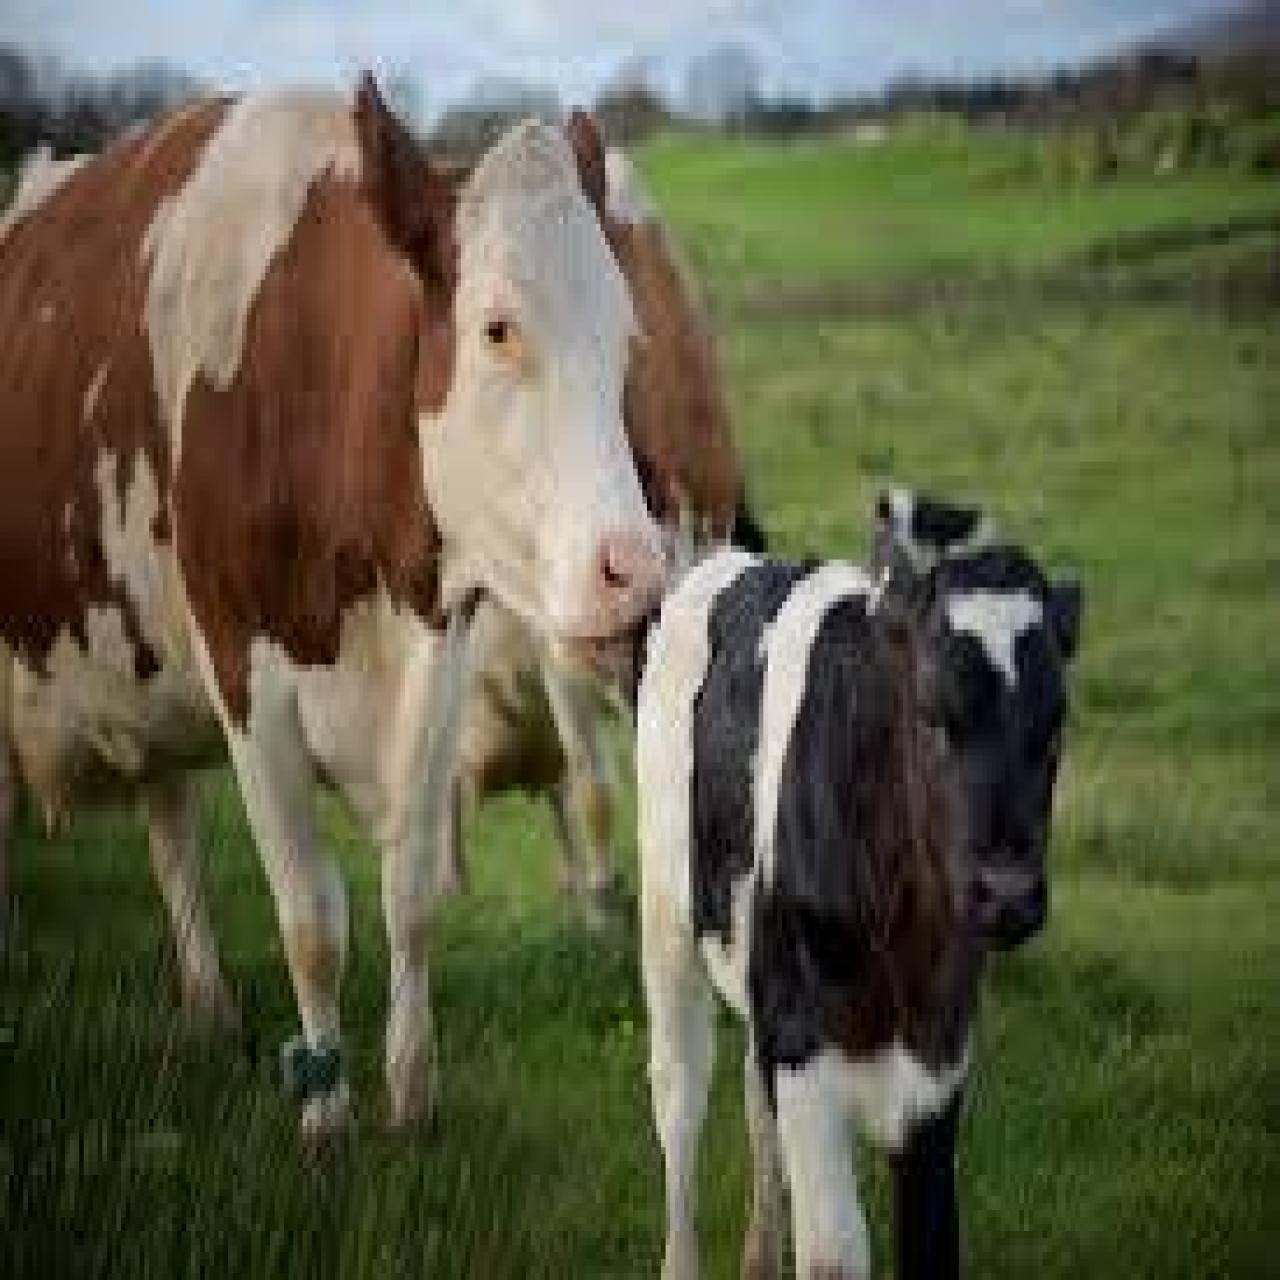cow: (0, 63, 680, 1182), (293, 139, 744, 910), (635, 545, 1085, 1280), (873, 479, 999, 549)
